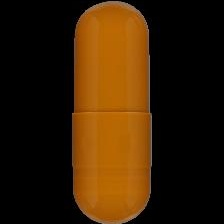43353-829: (0, 0, 224, 224)
